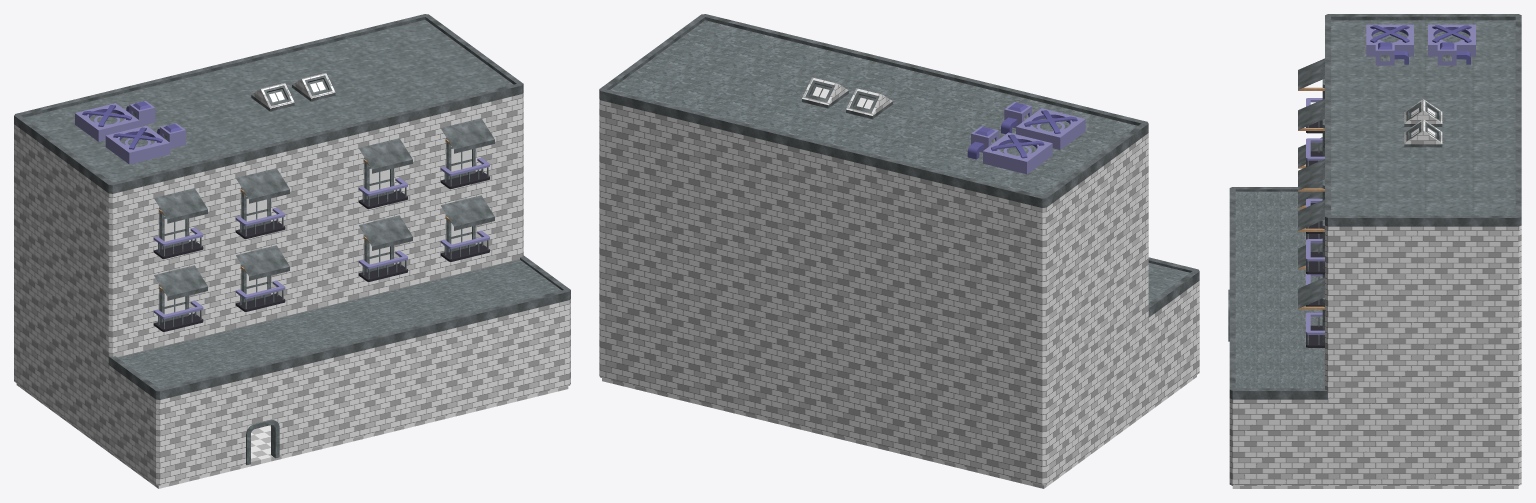
The model's file is Store 2__.fbx.
3 renders of one model, left to right at view 1: azimuth 30°, elevation 25°; view 2: azimuth 150°, elevation 25°; view 3: azimuth 270°, elevation 25°, orthographic. The views are drawn at different scales.
Parts seen in each view (by area): view 1: wall (×83), roof_flatCenter (×2), awning_single% (×8), balcony_basic (×8), roof_flatCorner (×5), detail_ventLarge (×2), wall_window (×4), roof_windowGlassSmall (×2), doorway_wideRounded; view 2: wall (×88), roof_flatCenter (×2), detail_ventLarge (×2), roof_flatCorner (×4), roof_windowGlassSmall (×2), detail_ventSmall (×2); view 3: wall (×28), roof_flatCenter (×2), awning_single% (×6), roof_flatCorner (×6), detail_ventLarge (×2), roof_flatSide (×5), roof_windowGlassSmall (×2), balcony_basic (×3), detail_ventSmall (×2).
Part boxes in pixels (bbox=[...]): wall (×83): bbox=[14, 94, 569, 485]; roof_flatCenter (×2): bbox=[24, 20, 561, 388]; awning_single% (×8): bbox=[154, 118, 494, 300]; balcony_basic (×8): bbox=[153, 157, 489, 331]; roof_flatCorner (×5): bbox=[14, 66, 570, 399]; detail_ventLarge (×2): bbox=[75, 103, 170, 164]; wall_window (×4): bbox=[159, 138, 475, 249]; roof_windowGlassSmall (×2): bbox=[251, 73, 335, 111]; doorway_wideRounded: bbox=[242, 413, 282, 465]; wall (×88): bbox=[600, 100, 1199, 485]; roof_flatCenter (×2): bbox=[610, 20, 1189, 302]; detail_ventLarge (×2): bbox=[983, 108, 1085, 174]; roof_flatCorner (×4): bbox=[599, 70, 1199, 298]; roof_windowGlassSmall (×2): bbox=[802, 77, 892, 119]; detail_ventSmall (×2): bbox=[967, 102, 1031, 159]; wall (×28): bbox=[1229, 225, 1521, 485]; roof_flatCenter (×2): bbox=[1235, 20, 1515, 388]; awning_single% (×6): bbox=[1298, 58, 1324, 309]; roof_flatCorner (×6): bbox=[1229, 14, 1521, 399]; detail_ventLarge (×2): bbox=[1366, 24, 1475, 56]; roof_flatSide (×5): bbox=[1278, 14, 1472, 399]; roof_windowGlassSmall (×2): bbox=[1404, 99, 1442, 147]; balcony_basic (×3): bbox=[1306, 138, 1324, 347]; detail_ventSmall (×2): bbox=[1375, 42, 1470, 65].
Size of the model in its own units: 101 by 66.5 by 61.55.
12 materials, 8 textured.
